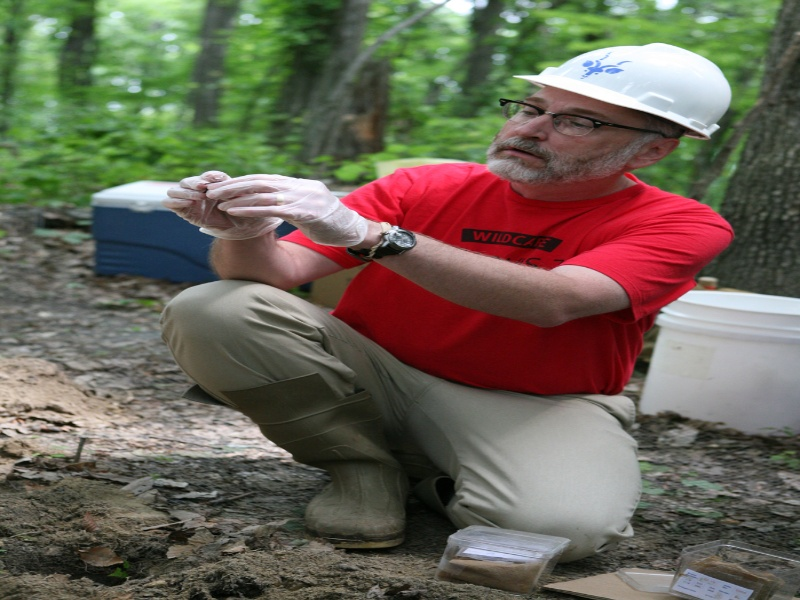Baret: (524, 41, 731, 134)
